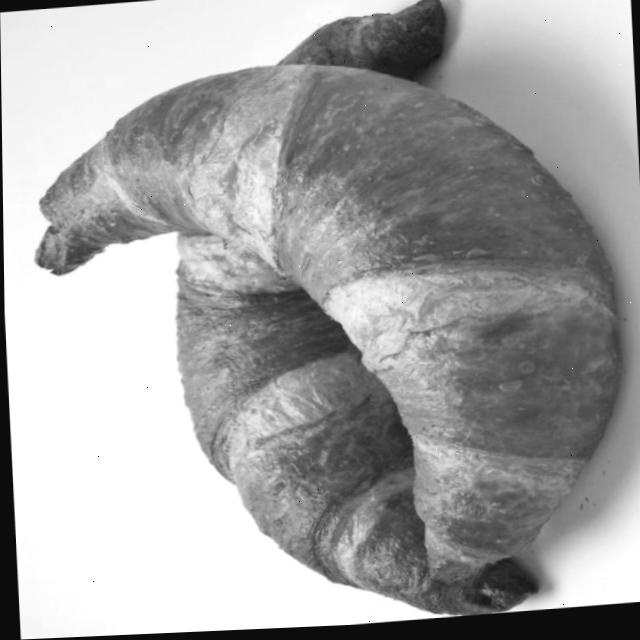面包点心: (10, 24, 639, 625)
